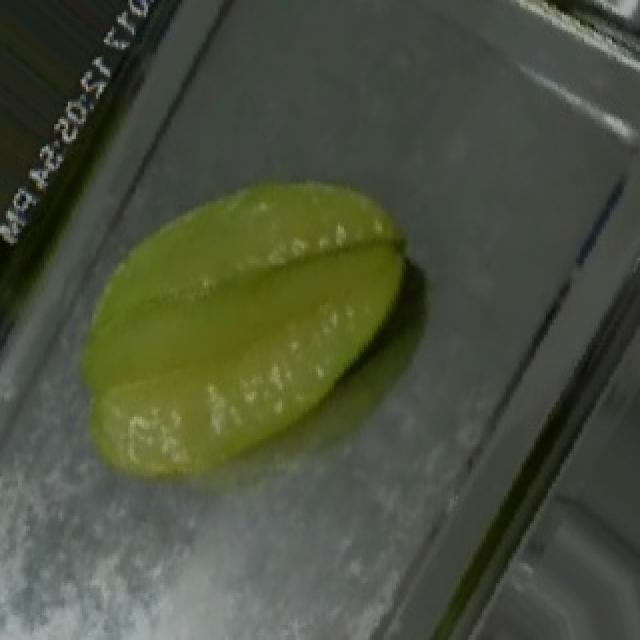fruit: (68, 104, 470, 504)
